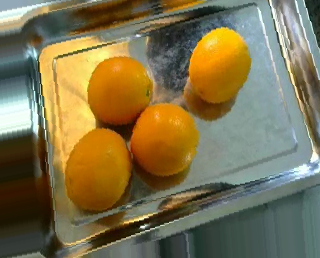Orange: (64, 127, 132, 213), (129, 103, 198, 178), (188, 26, 252, 104), (88, 55, 154, 124)
